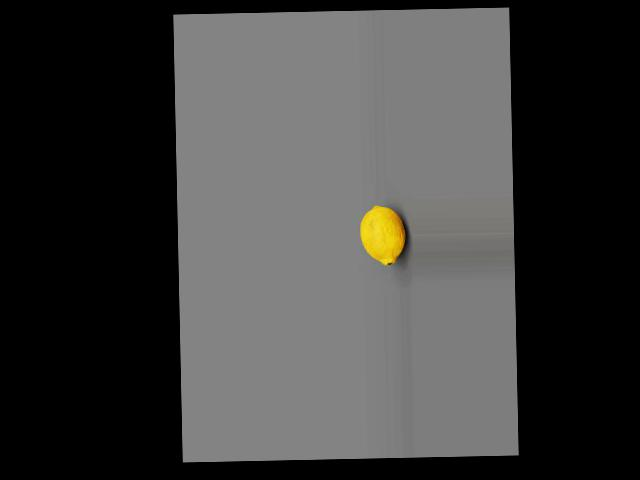lemon: (356, 199, 406, 280)
